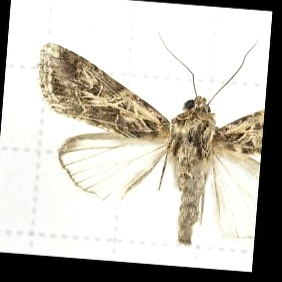Spodoptera litura: (30, 30, 261, 244)
